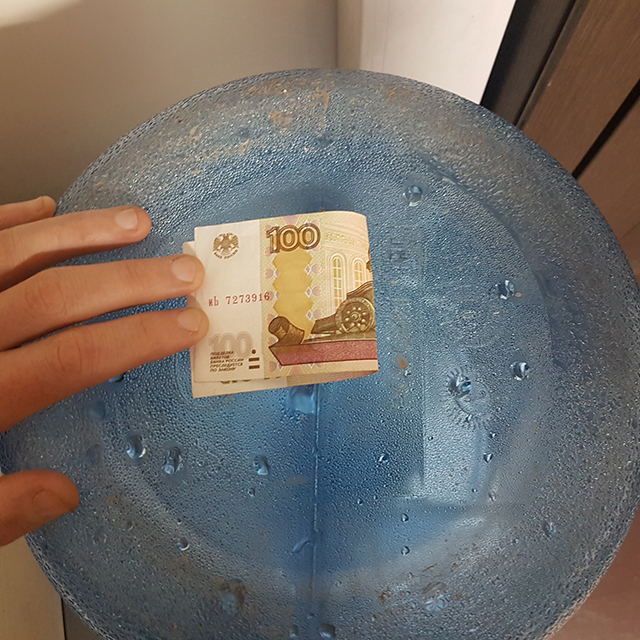banknotes: (182, 212, 379, 398)
